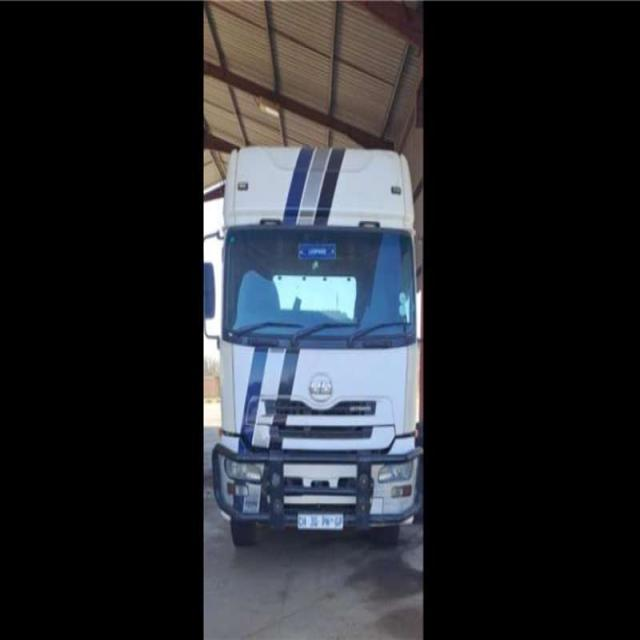Heavy Duty Truck: (206, 150, 420, 549)
